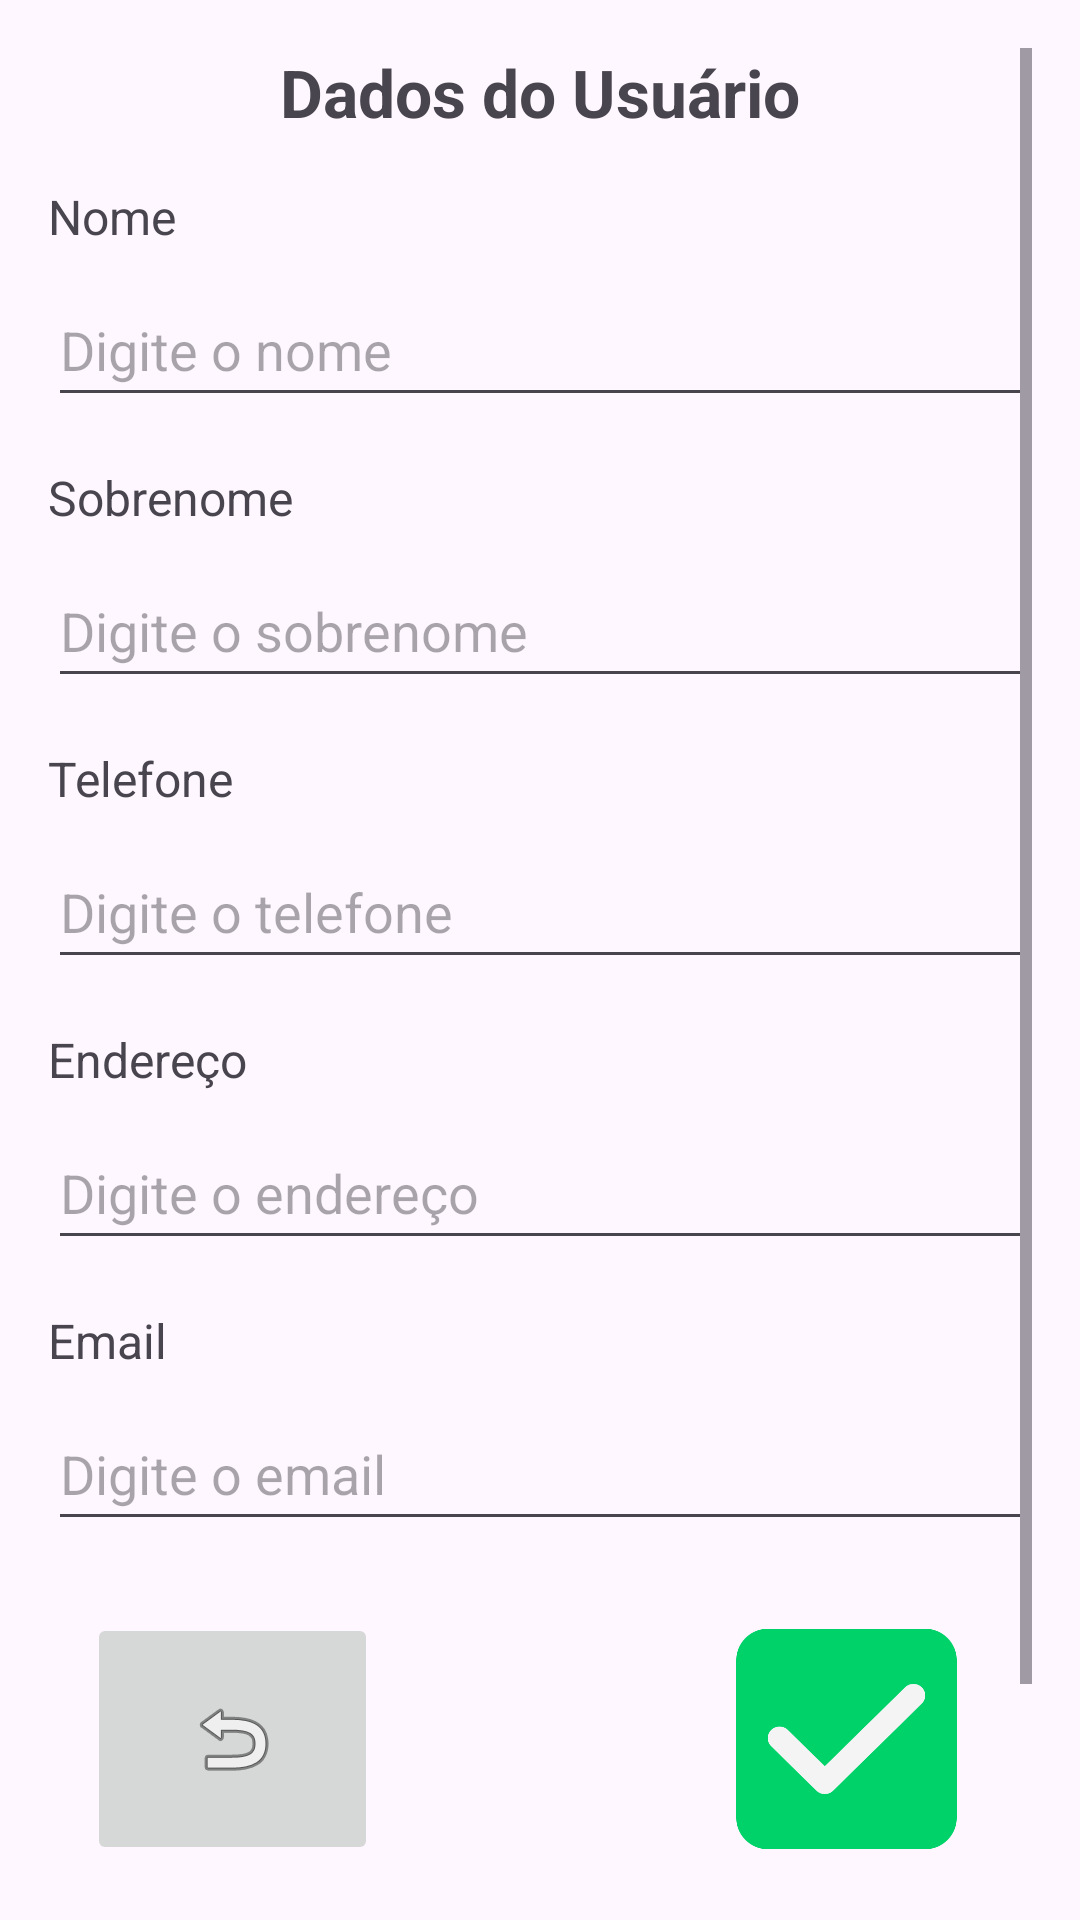

Screen size 1080 x 1920. Icon name, then its center in pixels as (x,y):
Confirmar: (846,1739)
Voltar: (232,1739)
